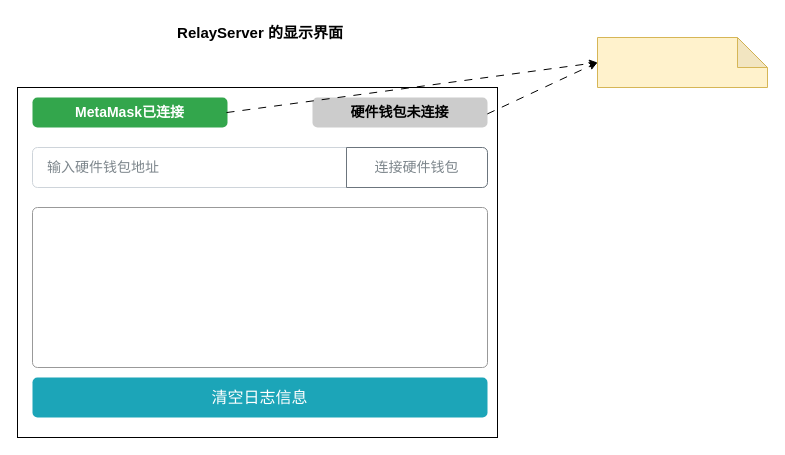
The diagram is 785 pixels wide and 455 high, and some of its shapes have lost their labels. The centre of each missing label's shape, as x and y in pixels:
"已连接显示绿色 未连接显示灰色" belongs at pixel 682 62.
"日志信息显示" belongs at pixel 260 287.
